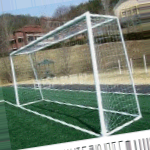goals: (8, 9, 143, 135)
